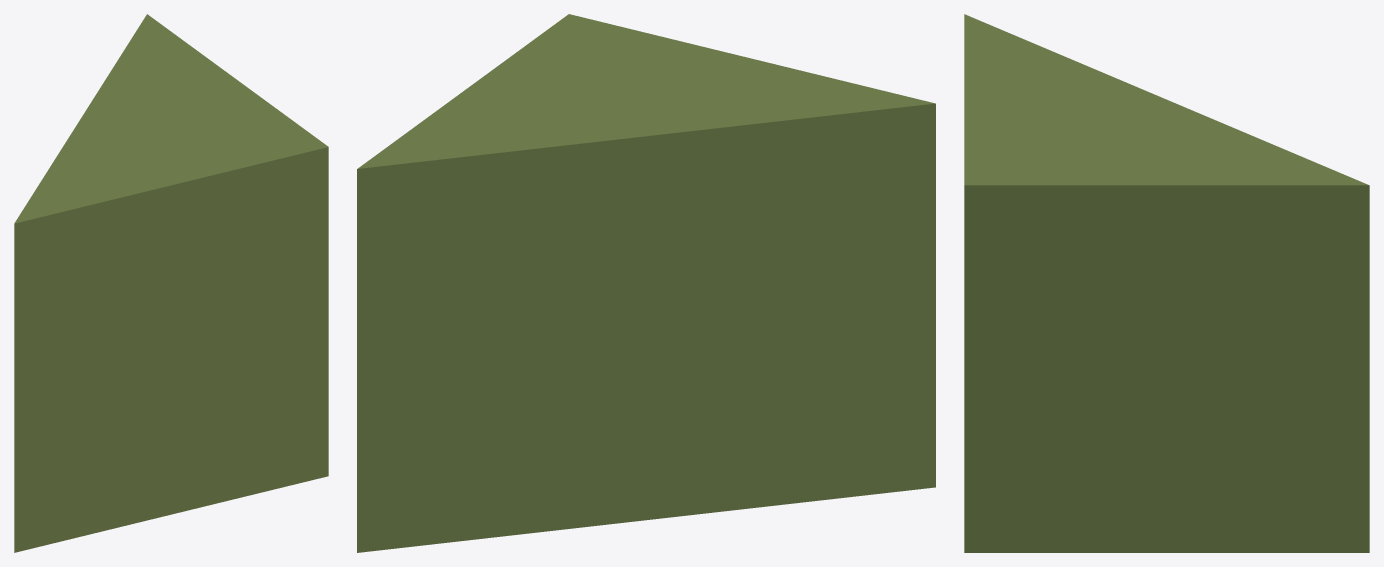
Rendered from grassHalfTile.fbx.
The picture shows the model from 3 angles, left to right: view 1: azimuth 30°, elevation 25°; view 2: azimuth 150°, elevation 25°; view 3: azimuth 270°, elevation 25°; orthographic projection. The views are drawn at different scales.
Parts seen in each view (by area): view 1: grassHalf; view 2: grassHalf; view 3: grassHalf.
Part boxes in pixels (x1,y1,x2,y2): grassHalf: (14,14,328,552); grassHalf: (357,14,935,552); grassHalf: (964,14,1369,552).
Bounding box in the file's own units: 100 × 100 × 100.
